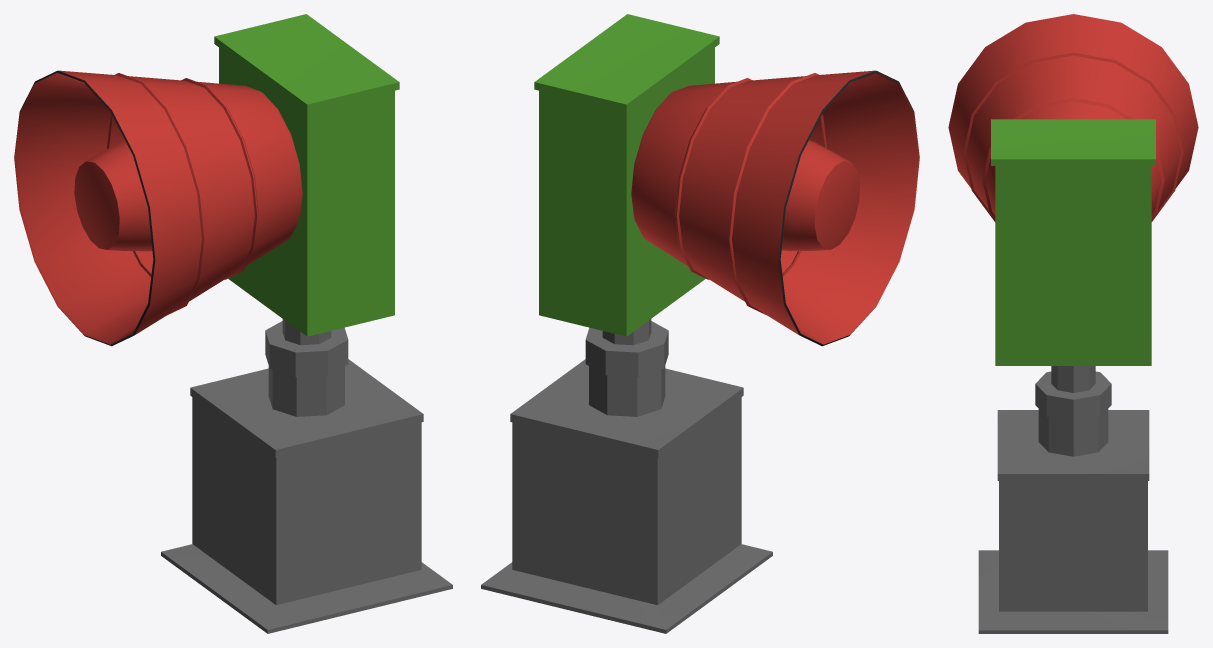
The model's file is Siren.fbx.
The picture shows the model from 3 angles, left to right: view 1: azimuth 30°, elevation 25°; view 2: azimuth 150°, elevation 25°; view 3: azimuth 270°, elevation 25°; orthographic projection. The views are drawn at different scales.
Visible parts, largest first — view 1: Siren; view 2: Siren; view 3: Siren.
Part boxes in pixels (x1,y1,x2,y2): Siren: [14, 14, 452, 633]; Siren: [481, 14, 919, 633]; Siren: [948, 14, 1198, 633].
Bounding box in the file's own units: 0.0119 × 0.0197 × 0.00921.
